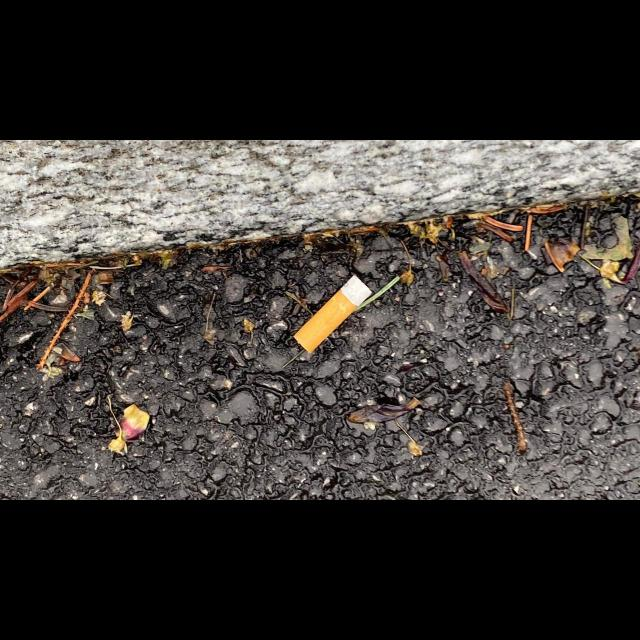cigarette: (292, 273, 372, 356)
